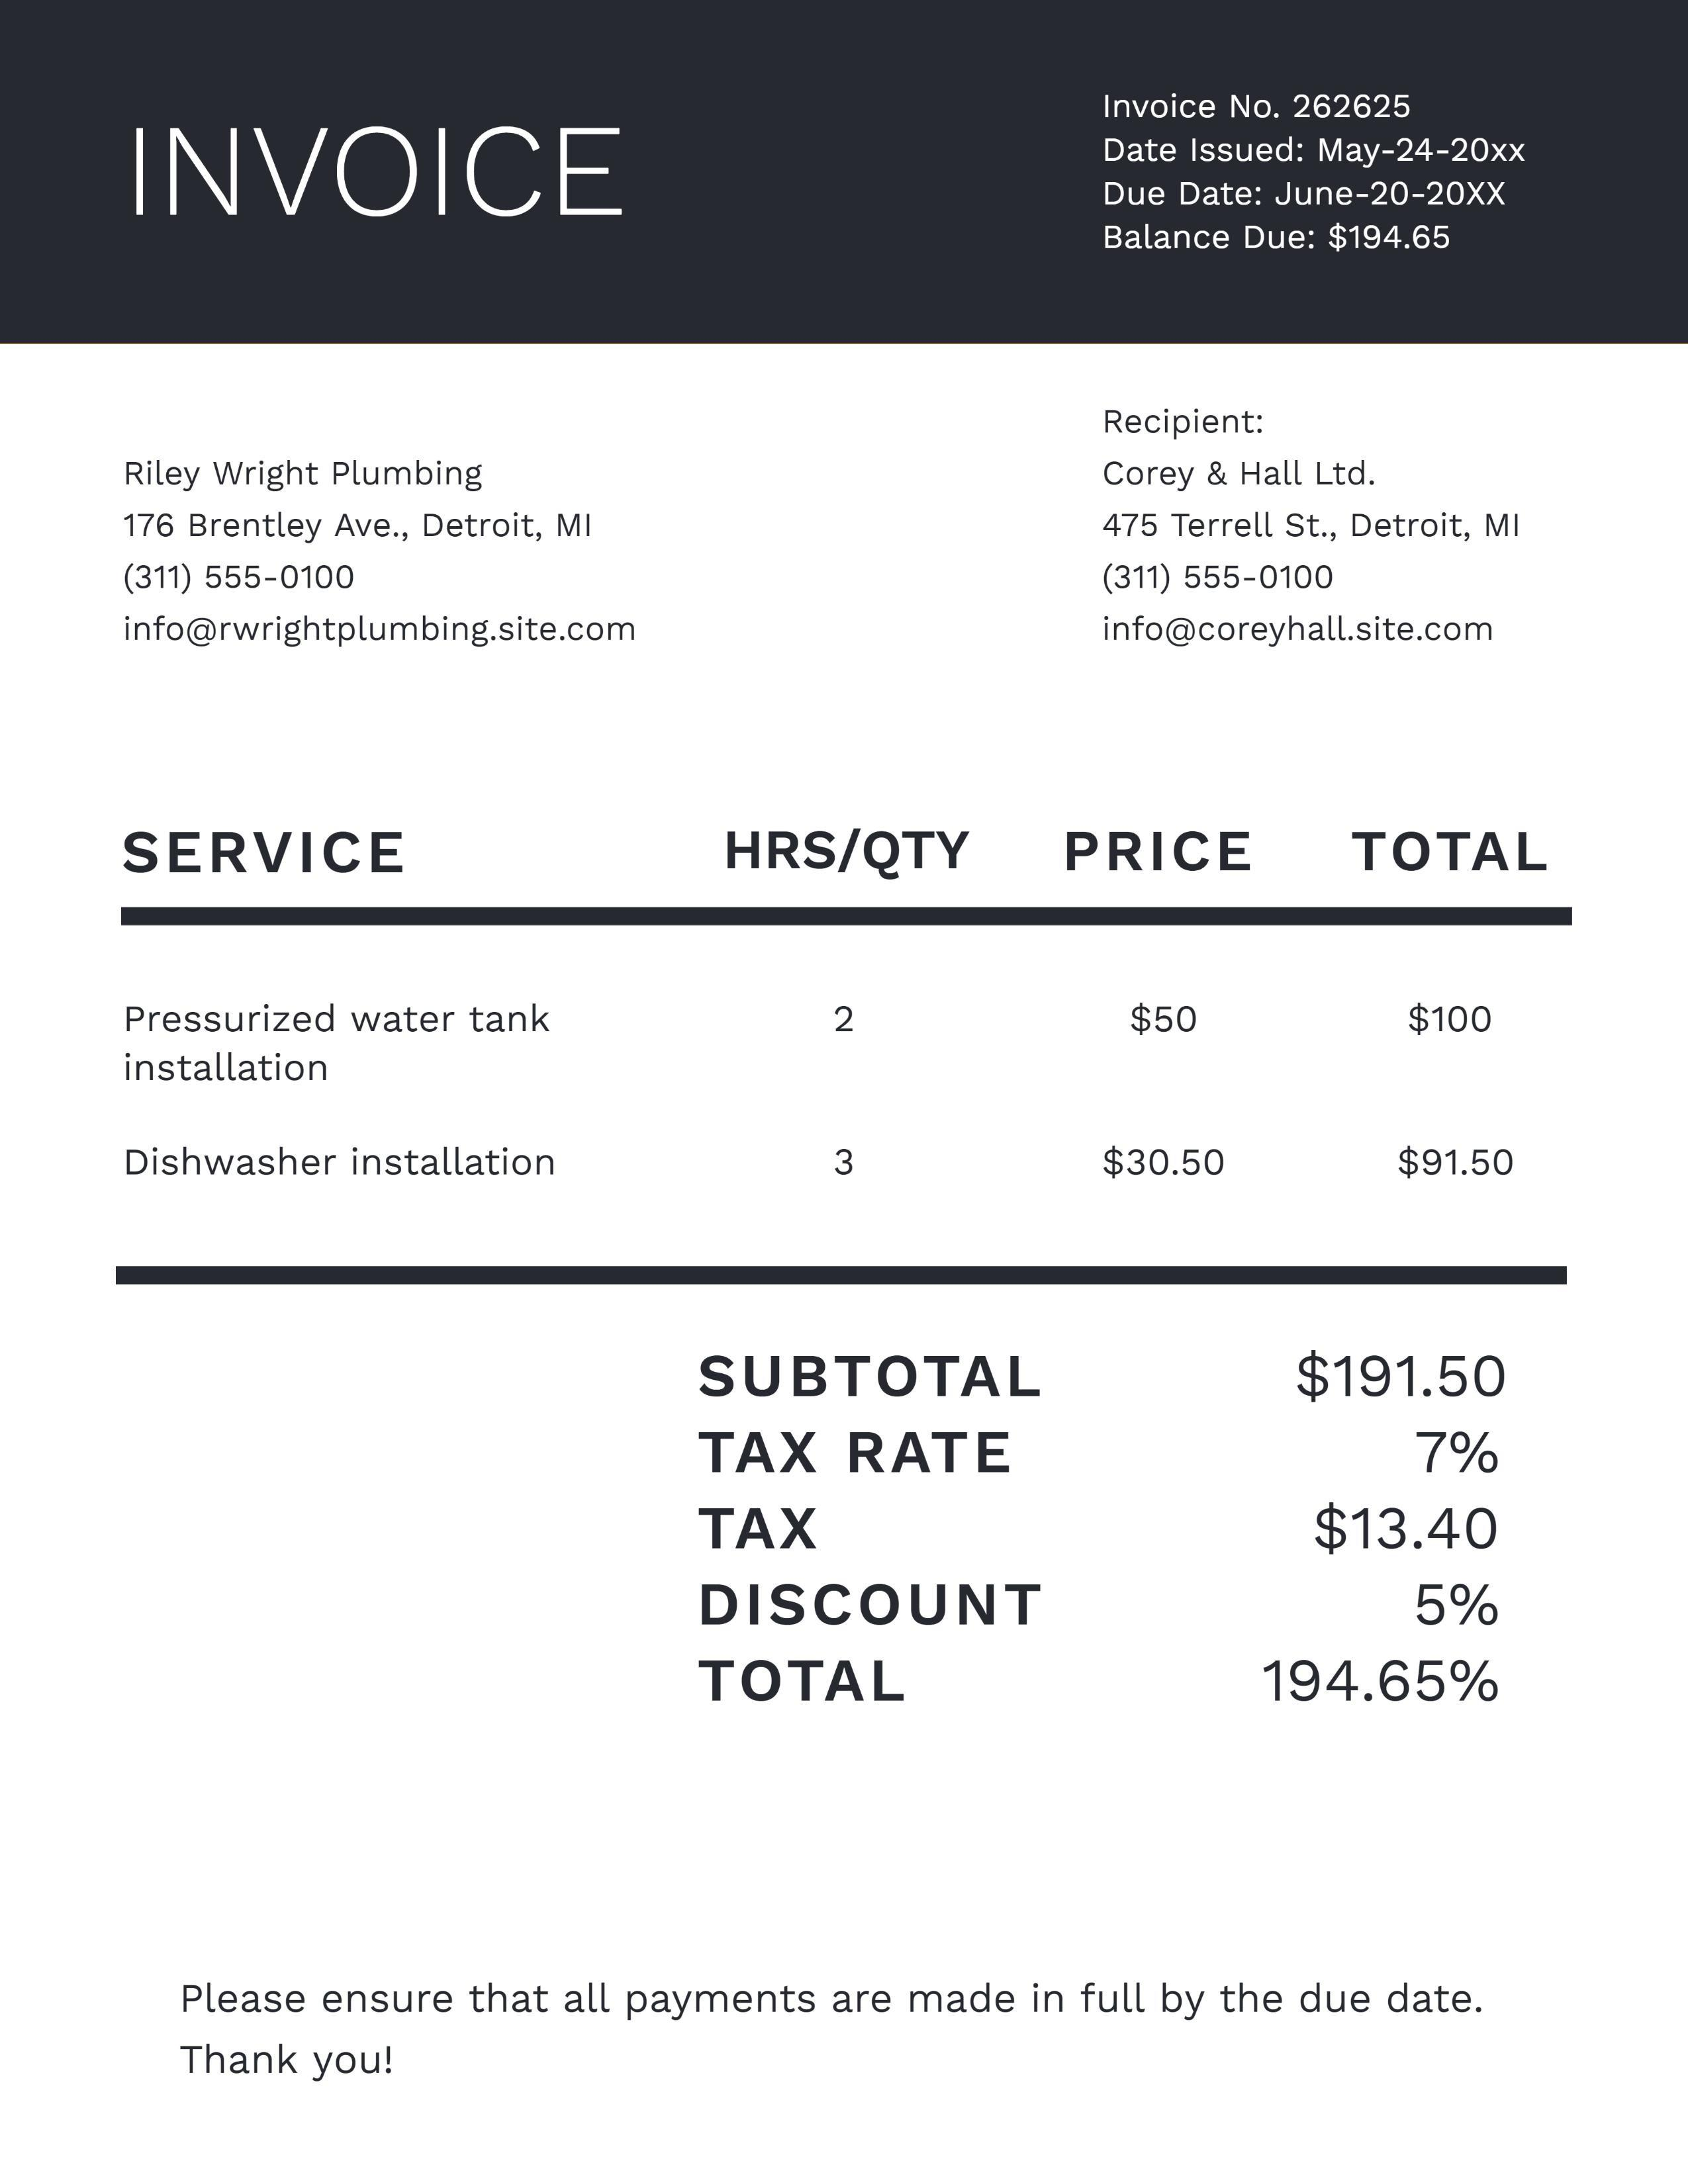ROI: (110, 817, 1562, 1195), (688, 1337, 1527, 1741), (172, 1978, 1493, 2081), (115, 443, 699, 661), (1092, 401, 1532, 656), (1092, 80, 1532, 268)
